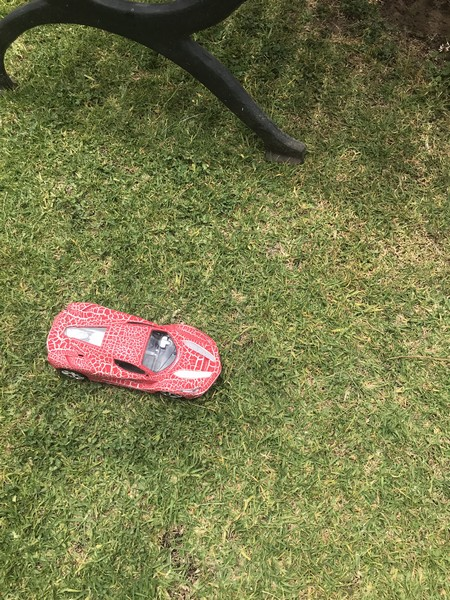RC: (44, 300, 223, 402)
